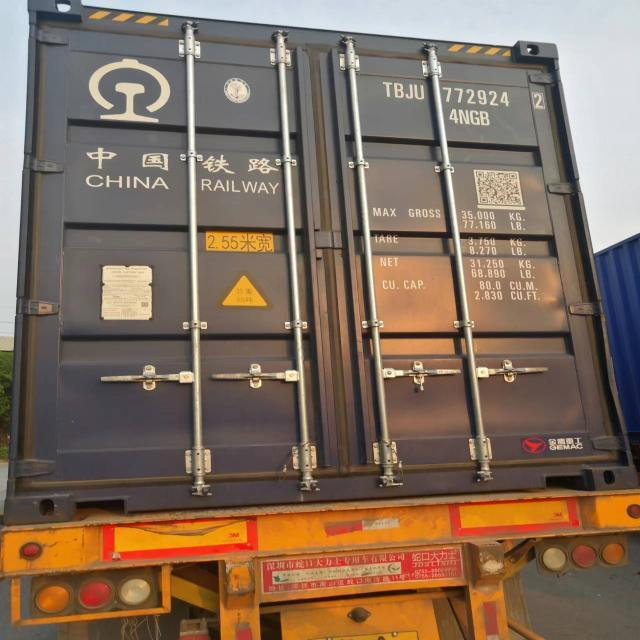ISO: (447, 108, 493, 128)
container_number: (380, 73, 546, 113)
